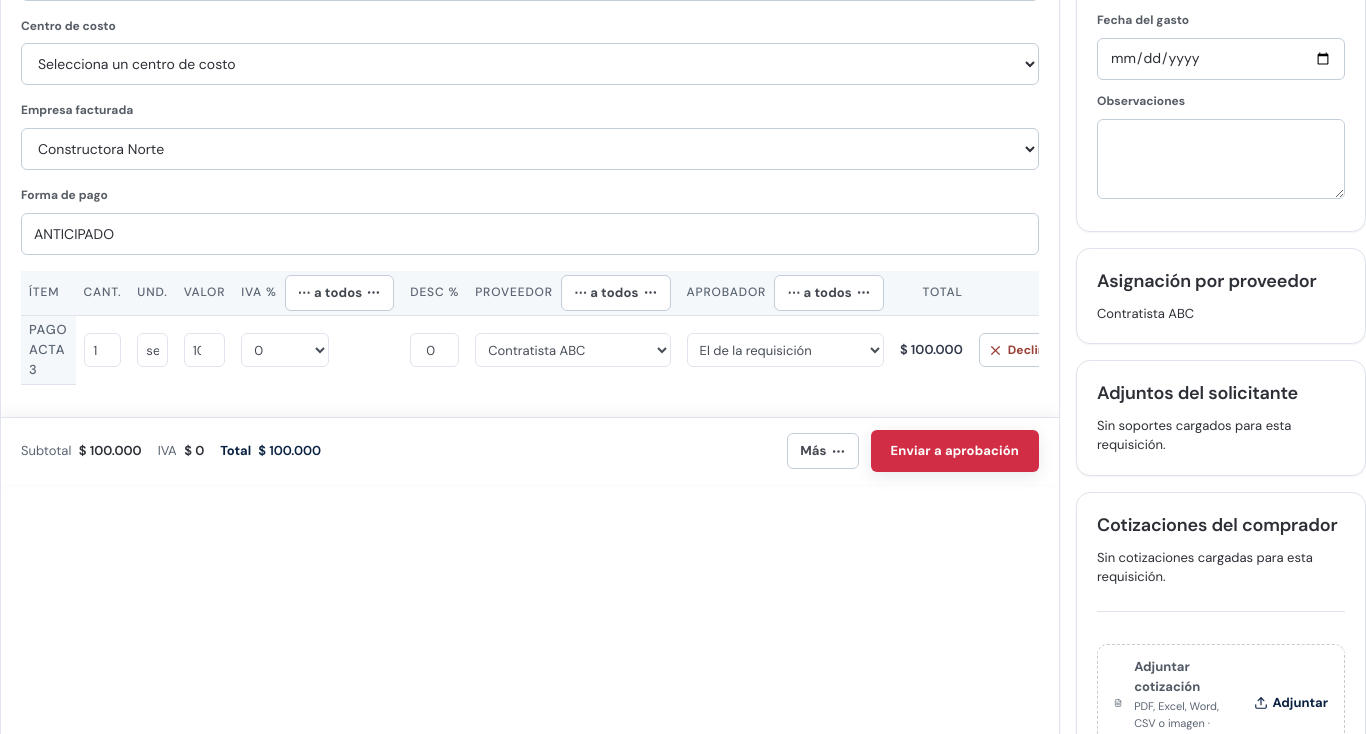
Scenario: valor editable con el original al lado (tipo=pago) › rotula la columna como Valor y solo muestra el original cuando el valor editado difiere
(page scrolled)
Expected: the column heading "Valor" is shown, [176,271,233,315]
Replace the text in the number field named "Precio unitario de Pago acta 3" with "120000" at (204,350), box [184,333,225,367]
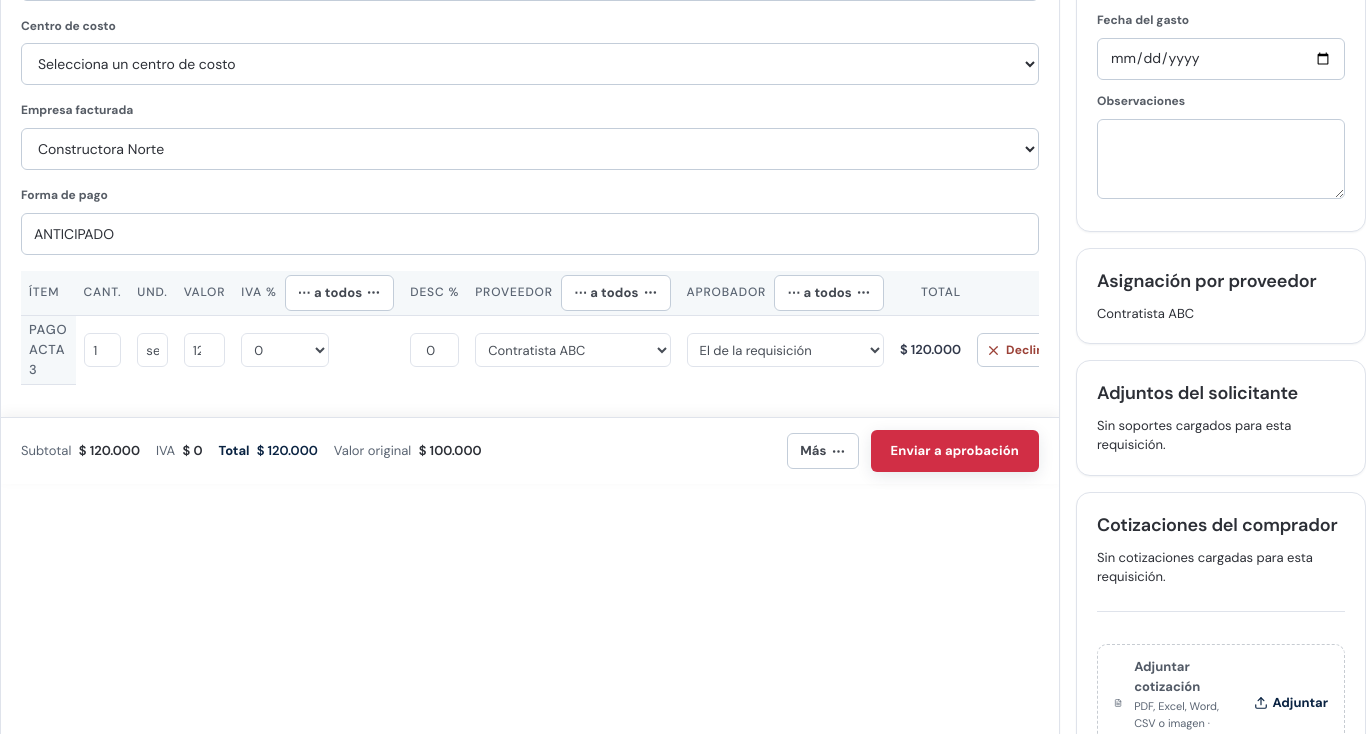
Result: the element with test id "original-amount" shows "Valor original" at [334,442,415,459]
Result: the element with test id "original-amount" shows "100.000" at [419,442,482,459]
Replace the text in the number field named "Precio unitario de Pago acta 3" with "100000" at (204,350), box [184,333,225,367]
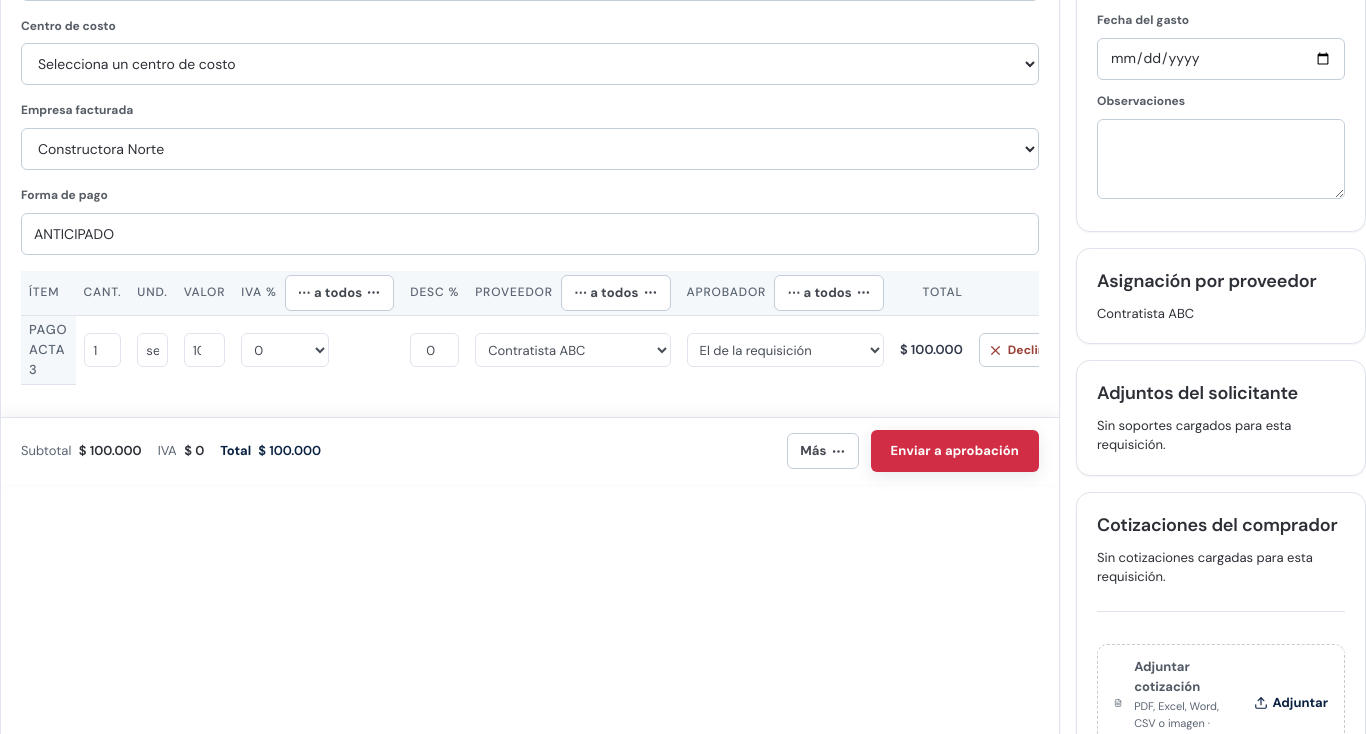
Result: the element with test id "original-amount" is gone
